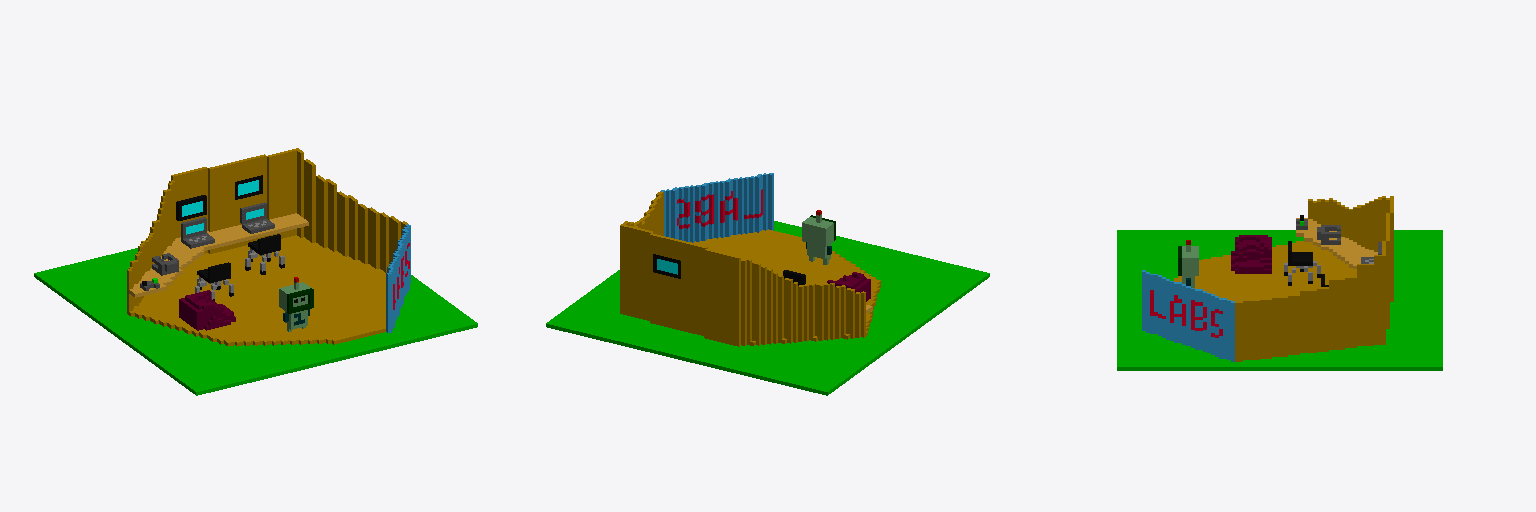
The picture shows the model from 3 angles: view 1: azimuth 30°, elevation 25°; view 2: azimuth 150°, elevation 25°; view 3: azimuth 270°, elevation 25°; orthographic projection.
Visible parts, largest first — view 1: object 1; view 2: object 1; view 3: object 1.
Part boxes in pixels (x1,y1,x2,y2): object 1: (34,148,477,395); object 1: (546,173,989,395); object 1: (1117,196,1442,370).
Bounding box in the file's own units: 8 × 2.5 × 8.
1 materials, 1 textured.